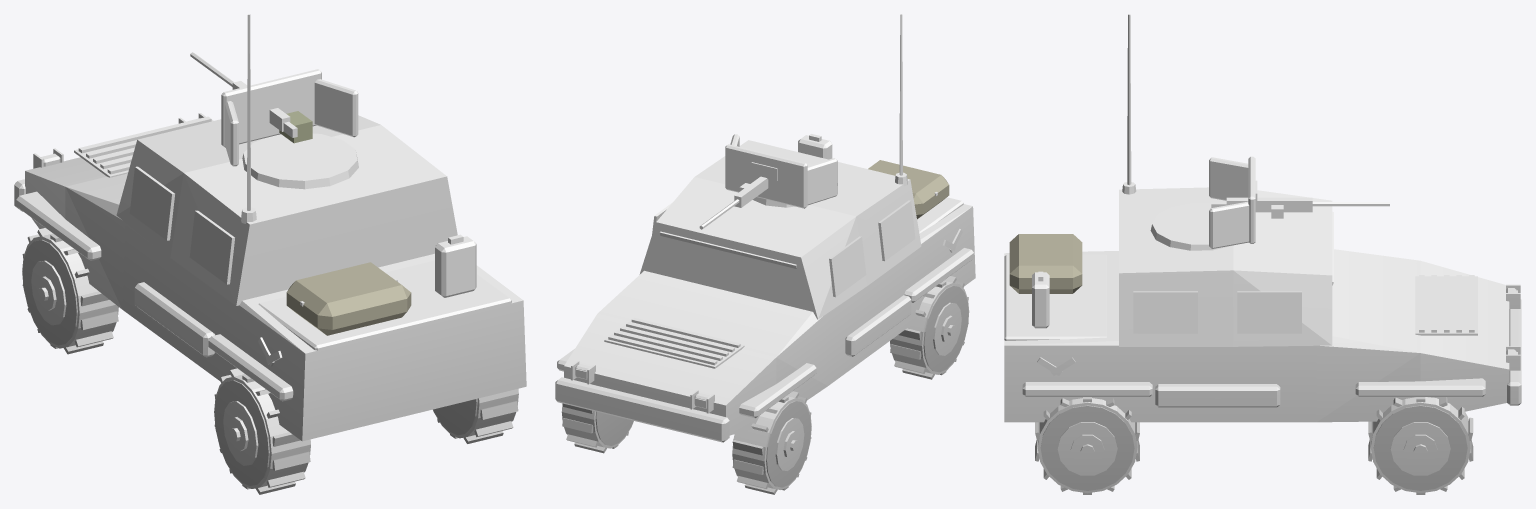
Rendered from technical_blue.glb.
3 views of the same model, side by side, from view 1: azimuth 30°, elevation 25°; view 2: azimuth 150°, elevation 25°; view 3: azimuth 270°, elevation 25° (orthographic). The views are drawn at different scales.
Parts seen in each view (by area): view 1: body, turret, wheel_0, wheel_2, wheel_3, barrel; view 2: body, wheel_0, wheel_2, turret, wheel_1, barrel; view 3: body, wheel_1, wheel_3, turret, barrel.
Part boxes in pixels (x1,y1,x2,y2): body: (14,14,526,441); turret: (221,69,358,189); wheel_0: (22,228,118,354); wheel_2: (214,368,310,494); wheel_3: (433,388,518,443); barrel: (190,52,312,143); body: (555,14,975,442); wheel_0: (732,391,811,494); wheel_2: (890,276,969,379); turret: (725,134,837,208); wheel_1: (561,403,633,453); barrel: (699,176,768,229); body: (1004,14,1521,422); wheel_1: (1368,397,1473,494); wheel_3: (1035,397,1139,494); turret: (1150,156,1257,250); barrel: (1211,197,1389,218).
Size of the model in its own units: 2.55 by 4.13 by 4.97.
